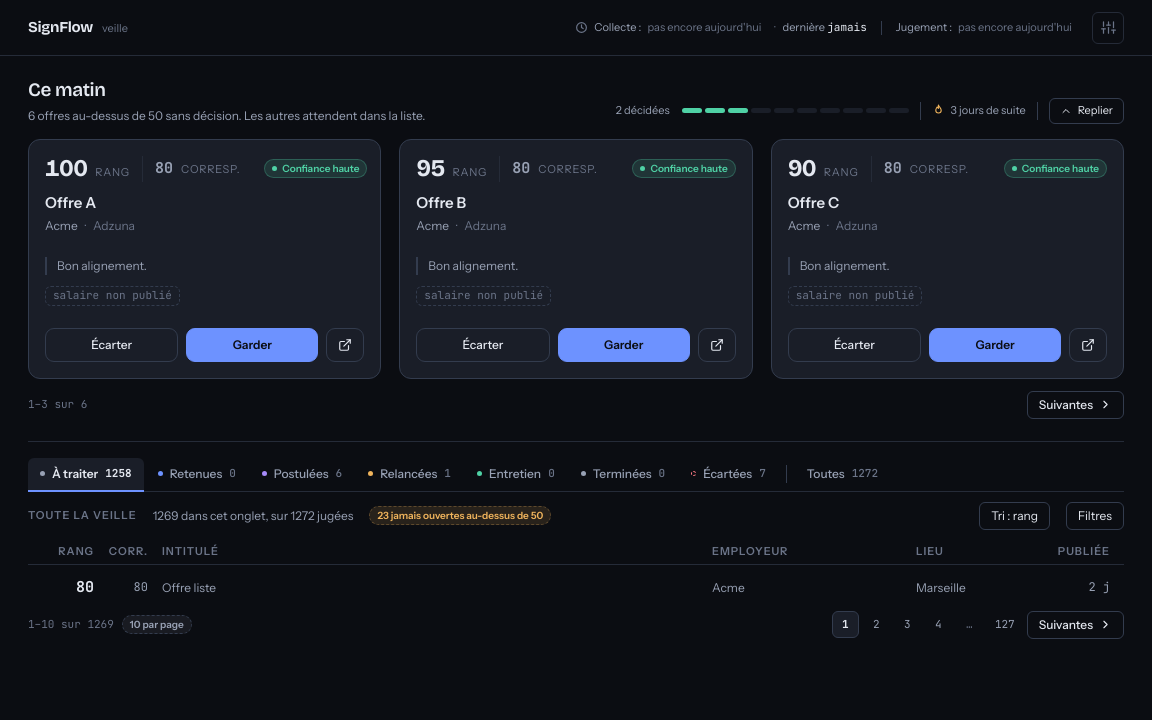
MatinScreen › une décision qui échoue laisse la carte en place et affiche un message
The width and height of the screenshot is (1152, 720).
Expected: the button "Offre C" is shown, [788,193,839,212]
Click the button "Garder" below "90" at (995, 345), box [929,328,1061,362]
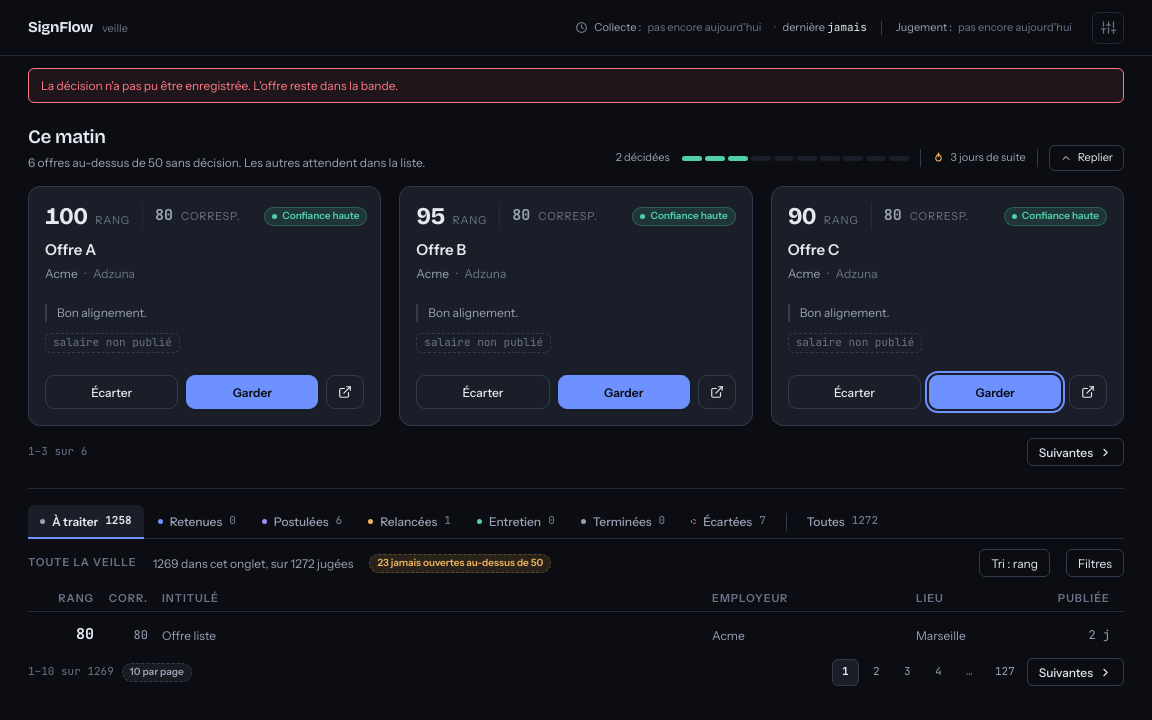
Expected: the button "Offre C" is shown, [788,240,839,260]
Expected: the text "La décision n'a pas pu être enregistrée. L'offre reste dans la bande." is shown, [28,68,1124,103]
